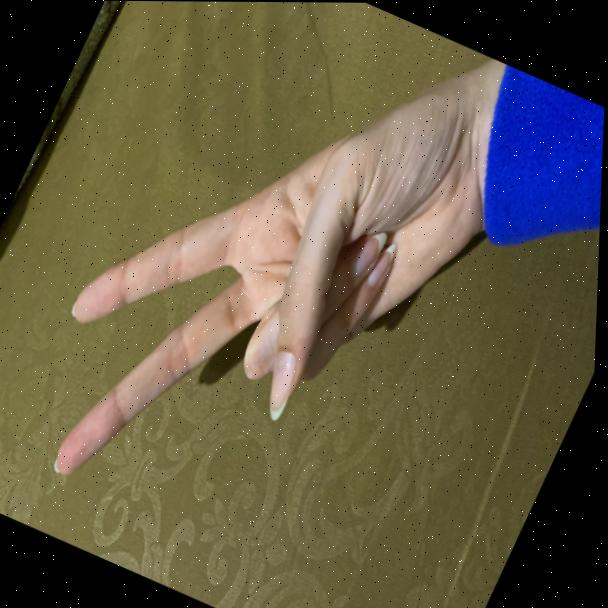two: (0, 15, 493, 577)
